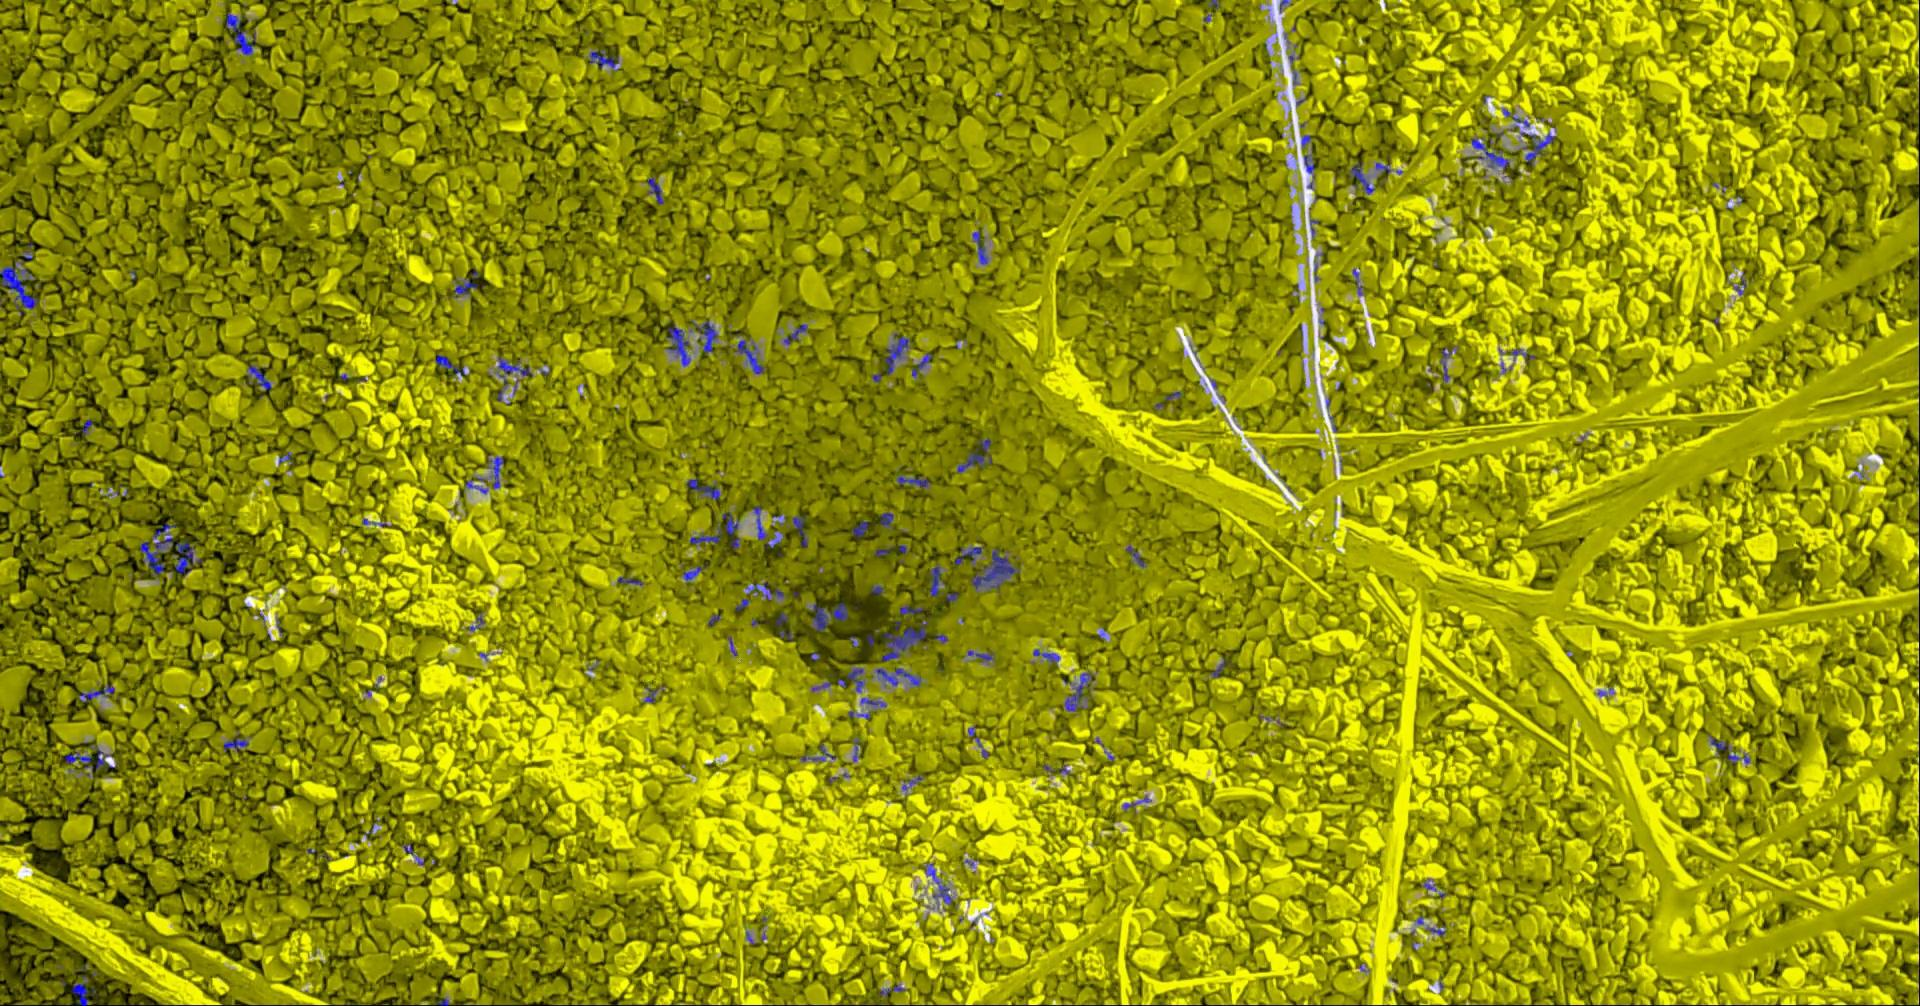ant: (970, 547, 1018, 589), (0, 260, 37, 315), (880, 620, 926, 661), (690, 512, 739, 547), (63, 744, 114, 777), (497, 356, 530, 401), (223, 11, 255, 55), (1470, 137, 1509, 171), (1520, 131, 1556, 165), (956, 437, 990, 473), (1064, 672, 1095, 711), (752, 506, 778, 547), (924, 862, 951, 904), (1349, 161, 1382, 194), (883, 333, 909, 373), (811, 601, 847, 631), (930, 564, 957, 602), (1710, 735, 1749, 763), (665, 323, 690, 366), (691, 320, 717, 353), (737, 340, 763, 373), (875, 667, 919, 686), (745, 582, 786, 600), (686, 478, 719, 499), (71, 976, 95, 1005), (434, 354, 467, 375), (77, 685, 114, 702), (968, 727, 988, 758), (800, 743, 836, 761), (588, 50, 618, 69), (248, 365, 270, 390), (971, 230, 988, 264), (453, 278, 483, 297), (910, 353, 932, 377), (952, 546, 982, 564), (775, 612, 792, 641), (488, 455, 503, 488), (792, 514, 808, 547), (783, 324, 808, 344), (1440, 345, 1453, 381), (222, 733, 248, 751), (897, 473, 928, 486), (1125, 545, 1145, 567), (648, 177, 663, 205), (681, 565, 707, 580), (463, 476, 488, 493), (847, 667, 863, 691), (1032, 648, 1059, 662), (1211, 657, 1229, 677), (1510, 348, 1534, 362), (851, 520, 869, 537), (899, 605, 923, 617), (877, 984, 904, 996), (902, 775, 922, 789), (968, 650, 994, 661), (617, 575, 643, 586), (860, 697, 886, 706), (1375, 158, 1390, 173), (643, 686, 657, 702), (1303, 154, 1314, 173), (879, 511, 891, 527)
